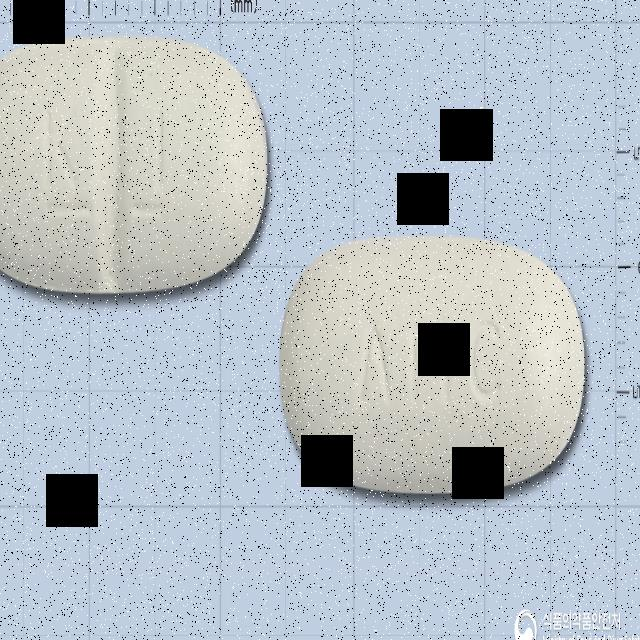Amocla Duo500mg: (278, 237, 586, 495), (0, 29, 270, 299)
